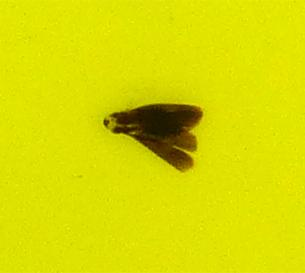Hemiptera: (100, 100, 205, 173)
